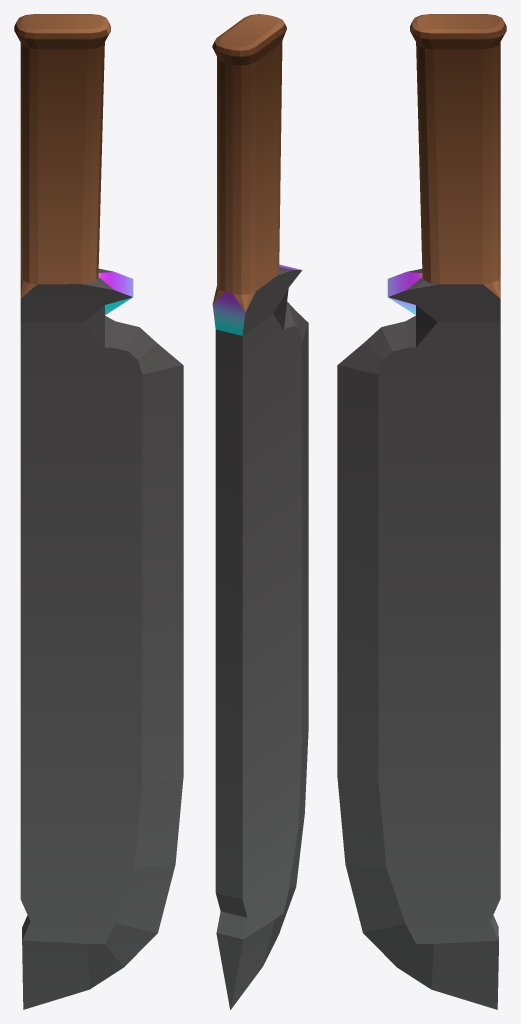
Rendered from knife.fbx.
3 renders of one model, left to right at view 1: azimuth 90°, elevation 25°; view 2: azimuth 150°, elevation 25°; view 3: azimuth 270°, elevation 25°, orthographic. The views are drawn at different scales.
Parts seen in each view (by area): view 1: Cube; view 2: Cube; view 3: Cube.
Part boxes in pixels (x1,y1,x2,y2): Cube: [14, 14, 183, 1009]; Cube: [212, 14, 308, 1009]; Cube: [337, 14, 506, 1009].
Size of the model in its own units: 22.48 by 493 by 76.38.
